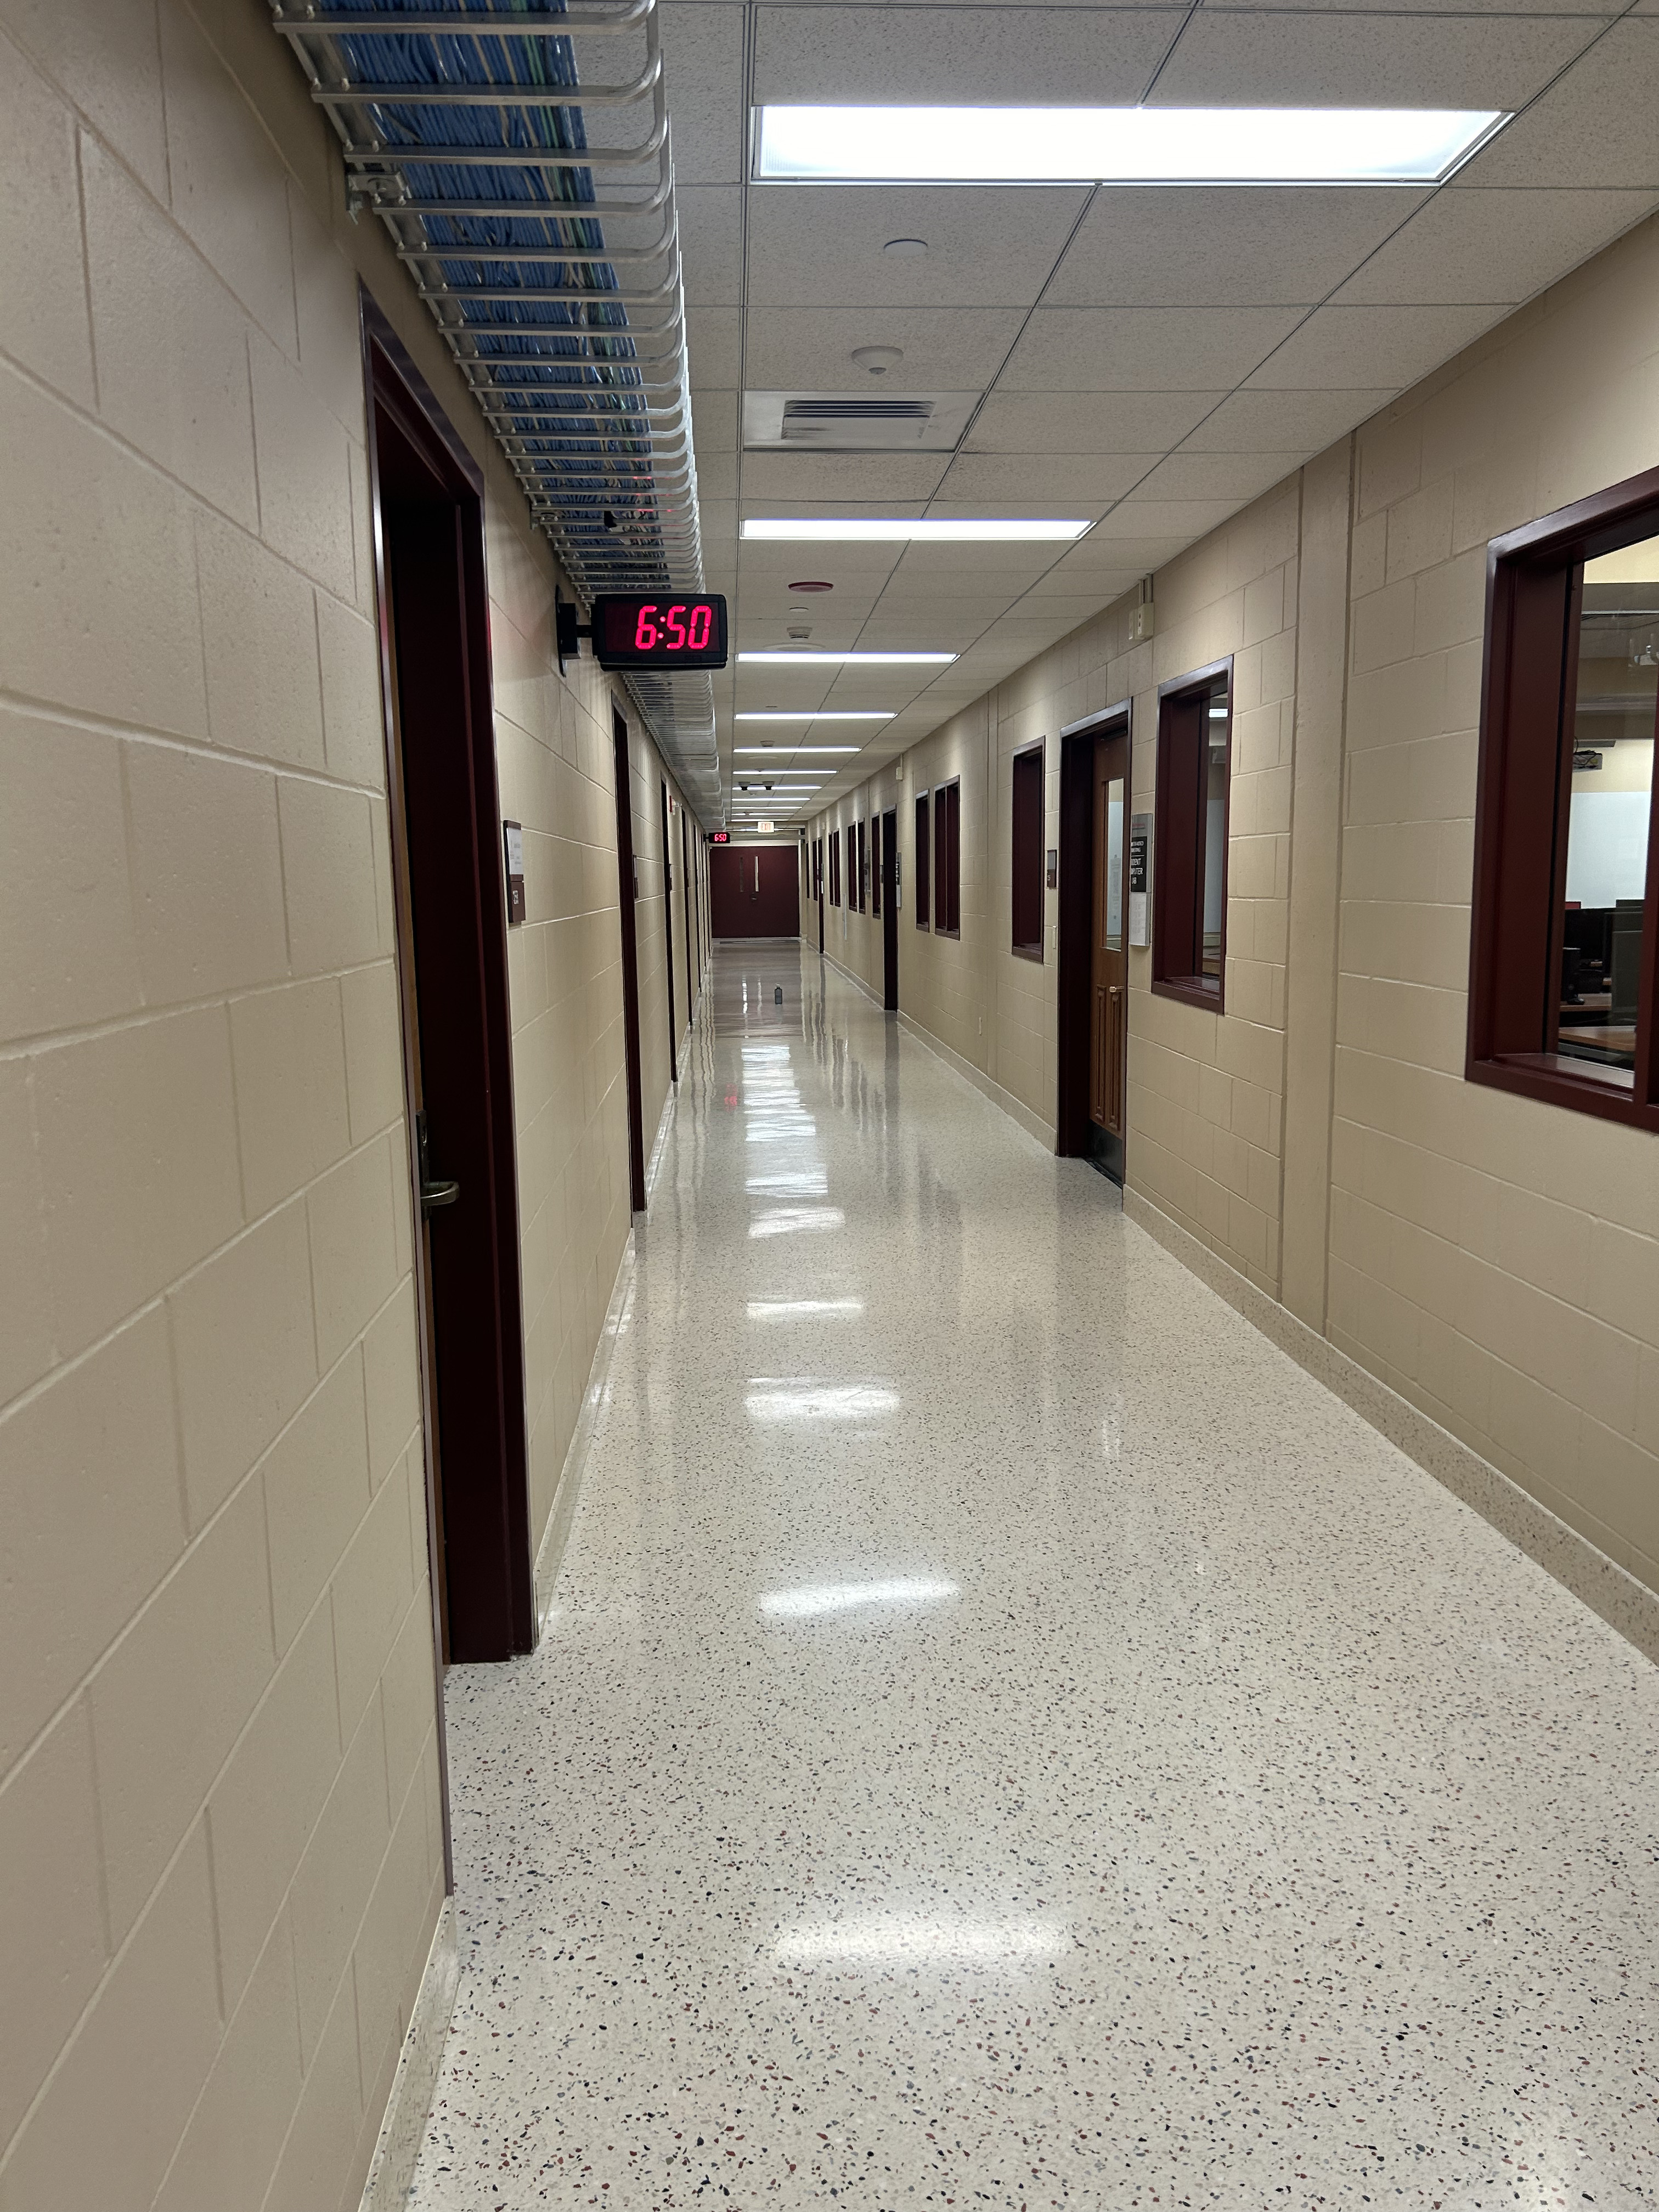bottle: (767, 972, 788, 1014)
